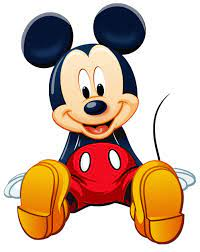mickeymouse: (14, 22, 186, 244)
